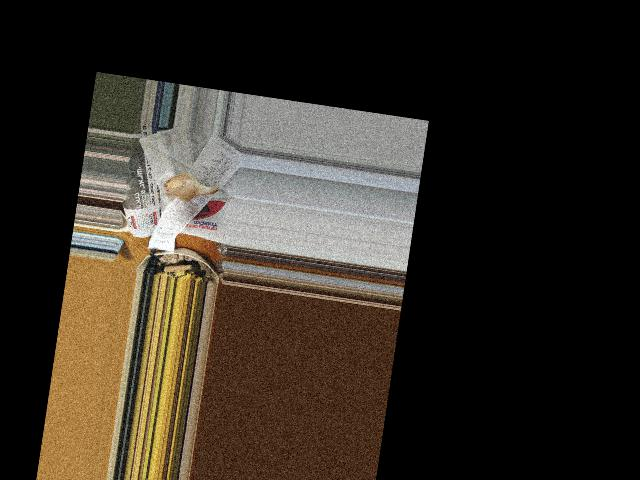onion: (162, 170, 214, 206)
